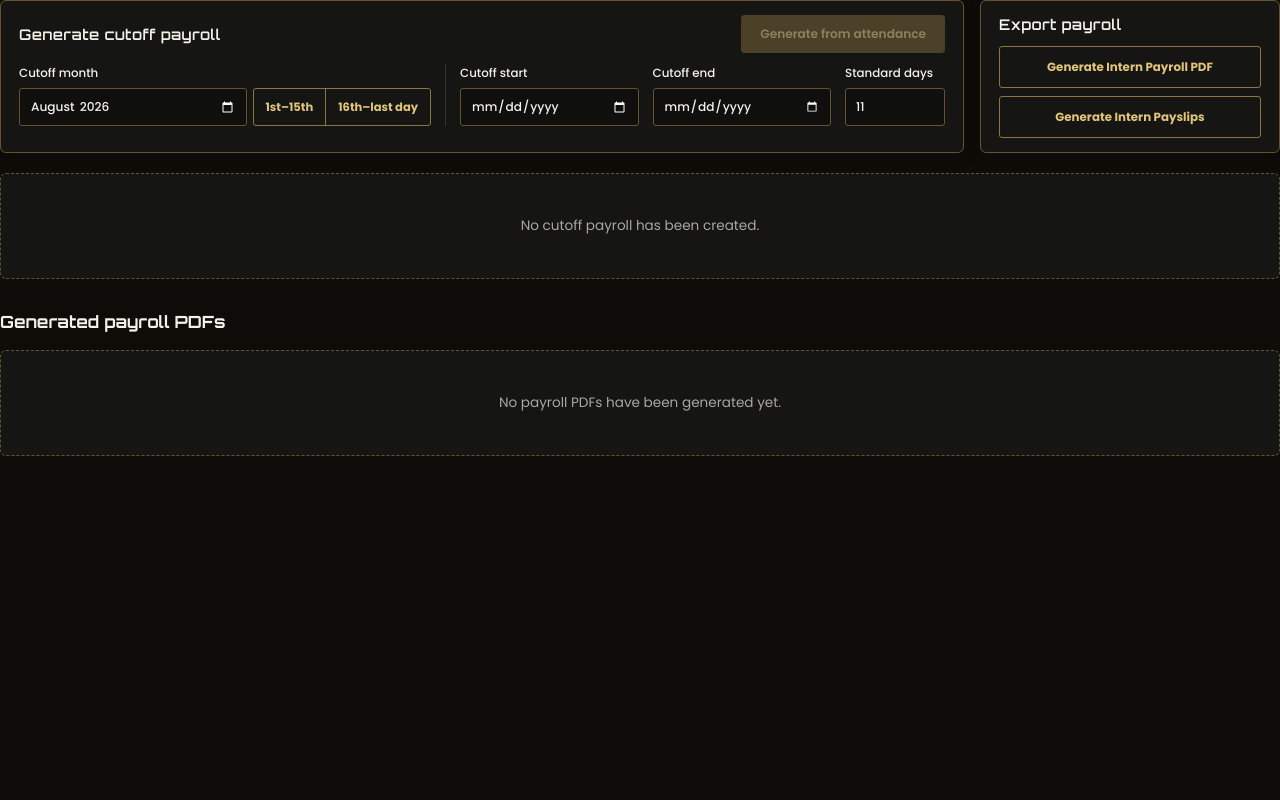
Scenario: PayrollWorkspace › generates payroll from a selected cutoff and shows backend errors
Click the button "1st–15th". click: (289, 107)
box: [254,89,325,125]
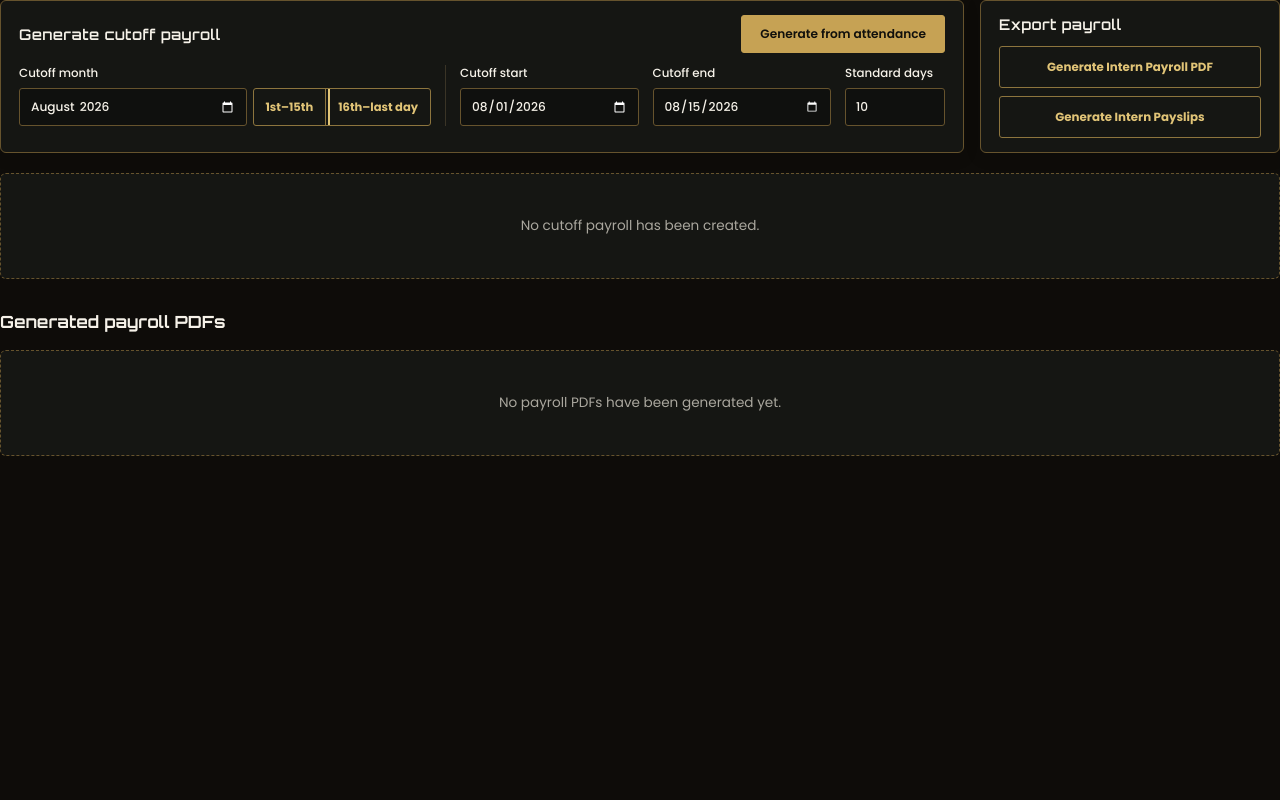
Click the button "Generate from attendance". click: (843, 34)
box: [741,15,945,53]
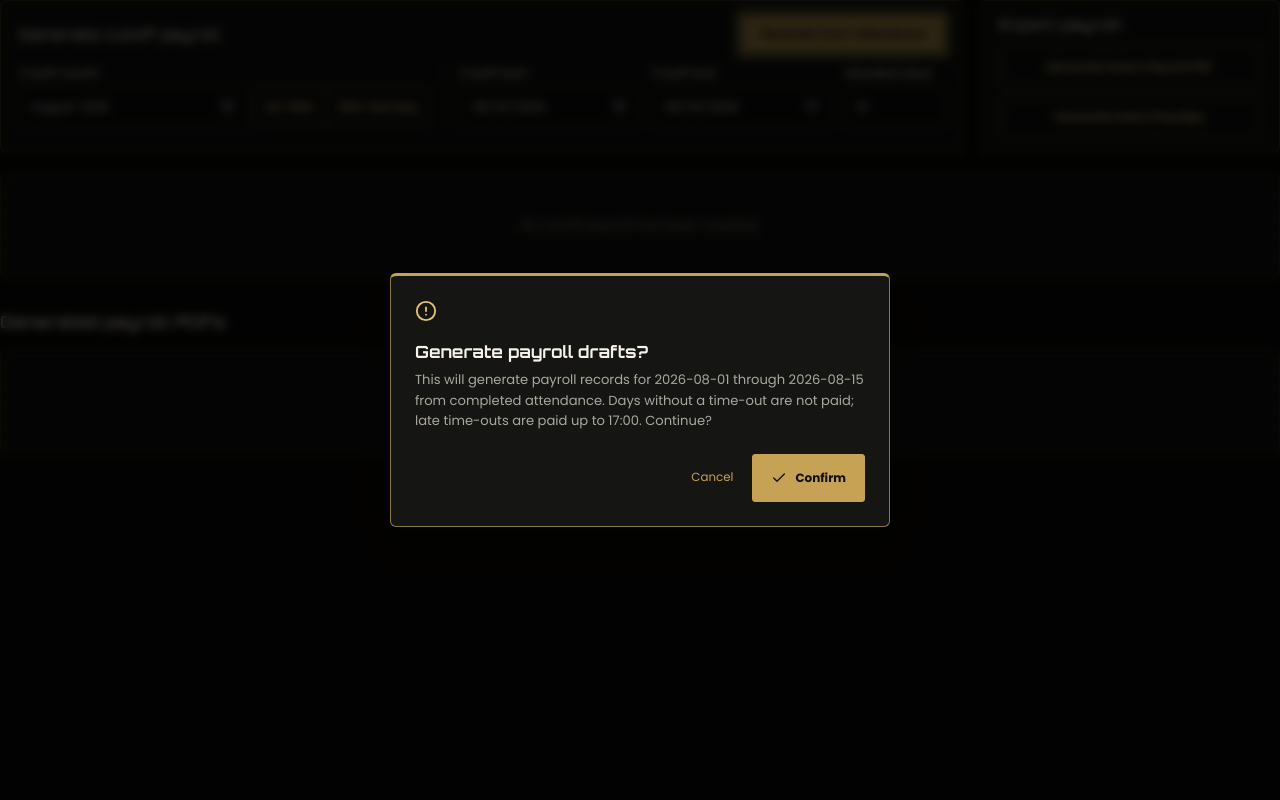
Check: the dialog is shown, box [390,274,890,526]
Click the button "Confirm". click: (809, 478)
box: [752,454,865,502]
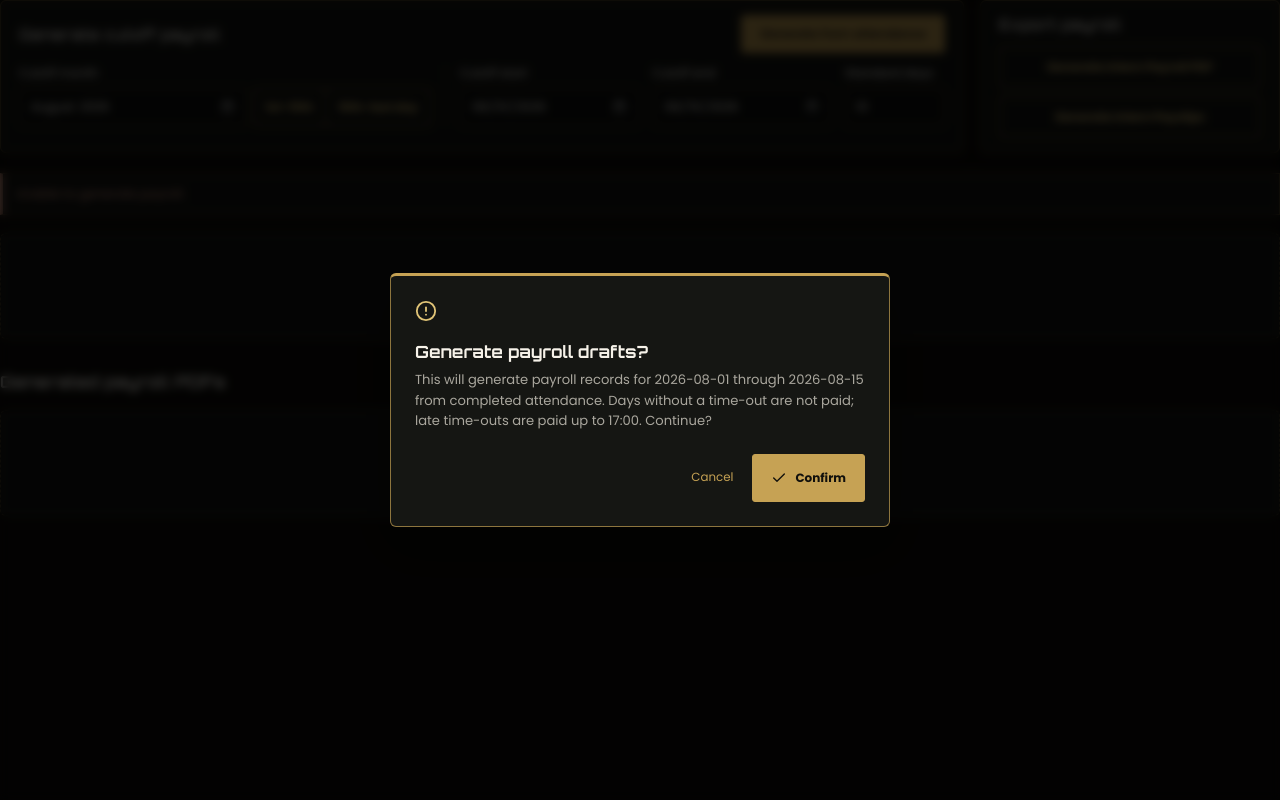
Check: the button "Generate from attendance" is enabled, box [741,15,945,53]
Check: the text "Unable to generate payroll." is shown, box [0,173,1279,215]
